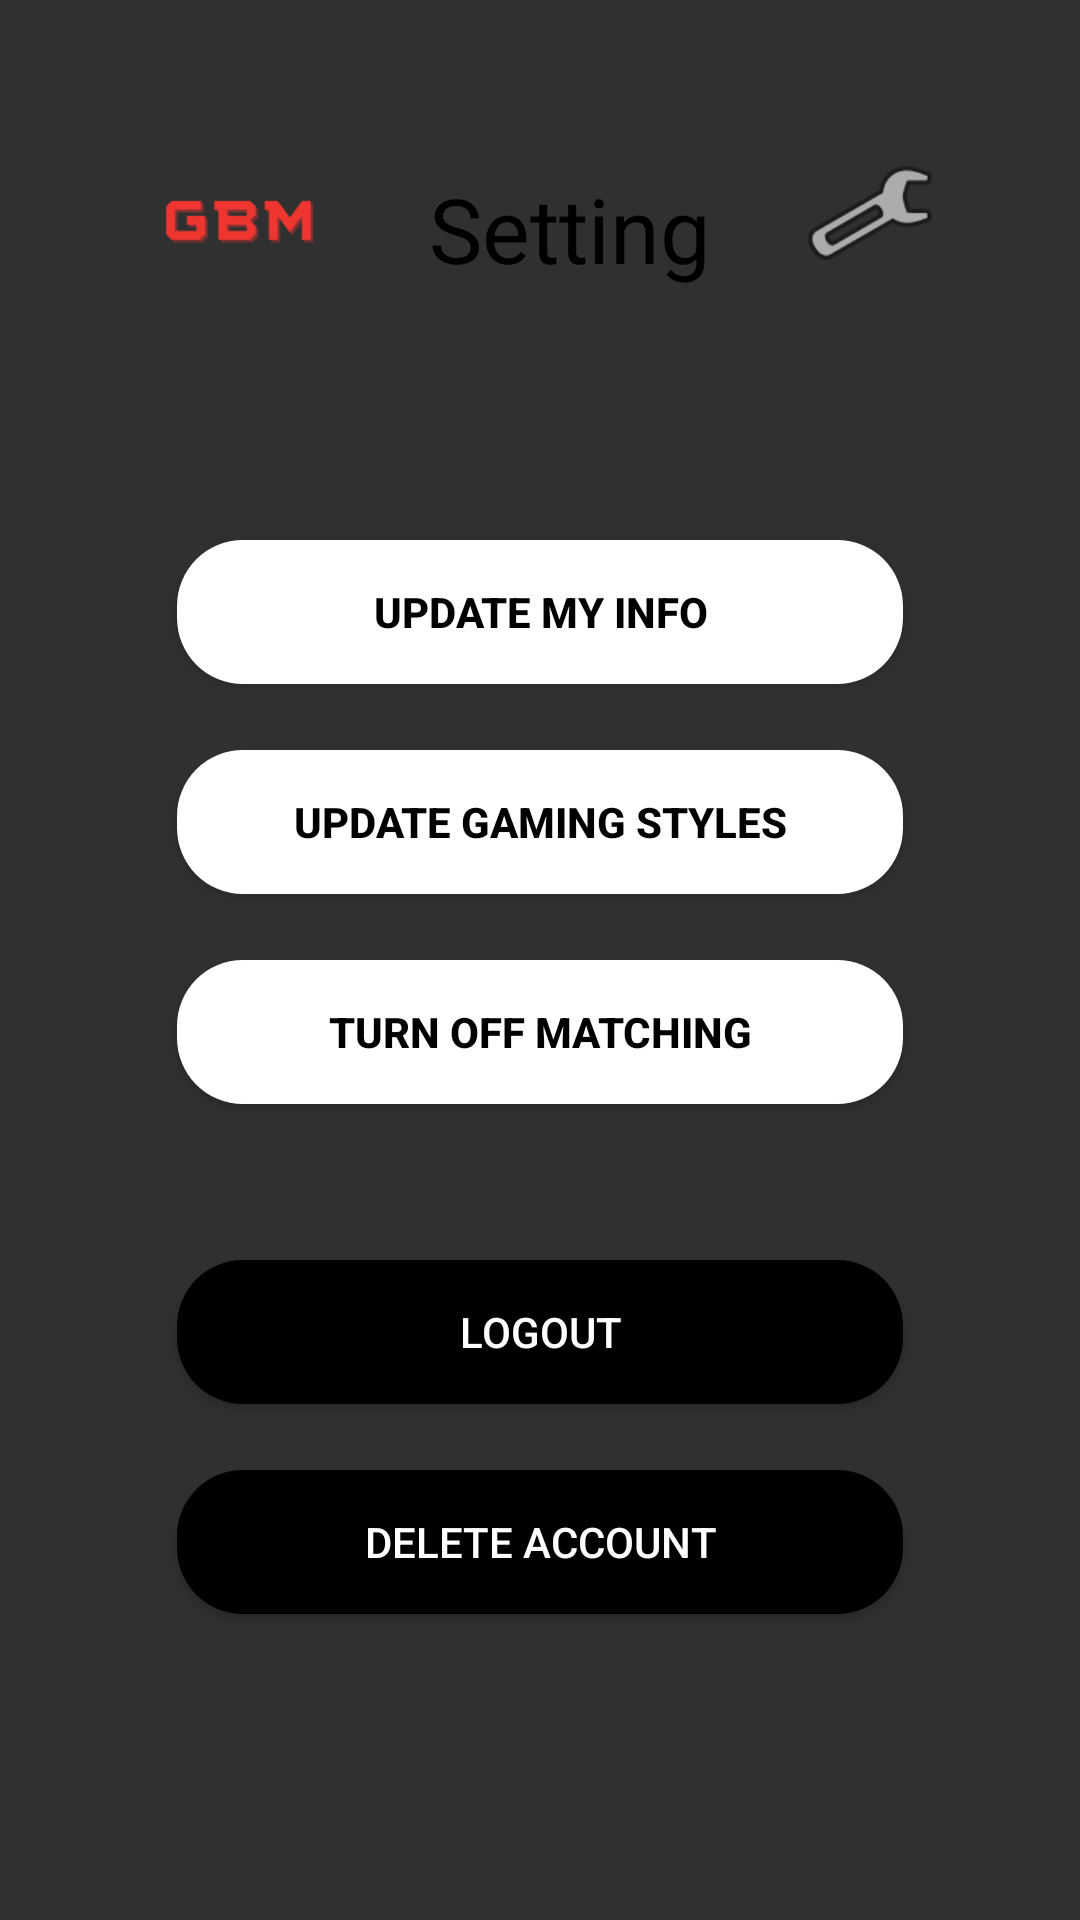

Named icons in this screenshot (1080*1920) and their centers, point (x, y):
manage: point (870, 213)
